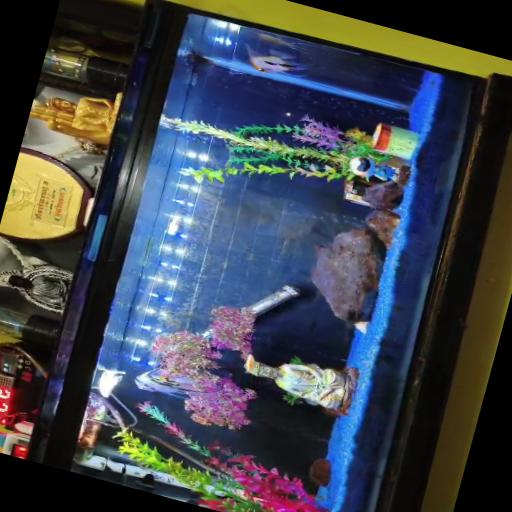Fish: (135, 368, 216, 399), (246, 46, 313, 73), (258, 33, 309, 51), (99, 370, 125, 397), (167, 216, 180, 235)
